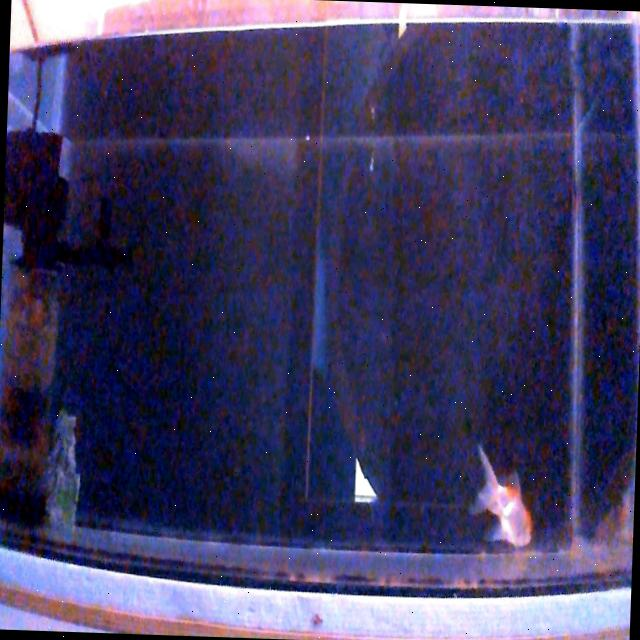fish: (470, 440, 537, 547)
